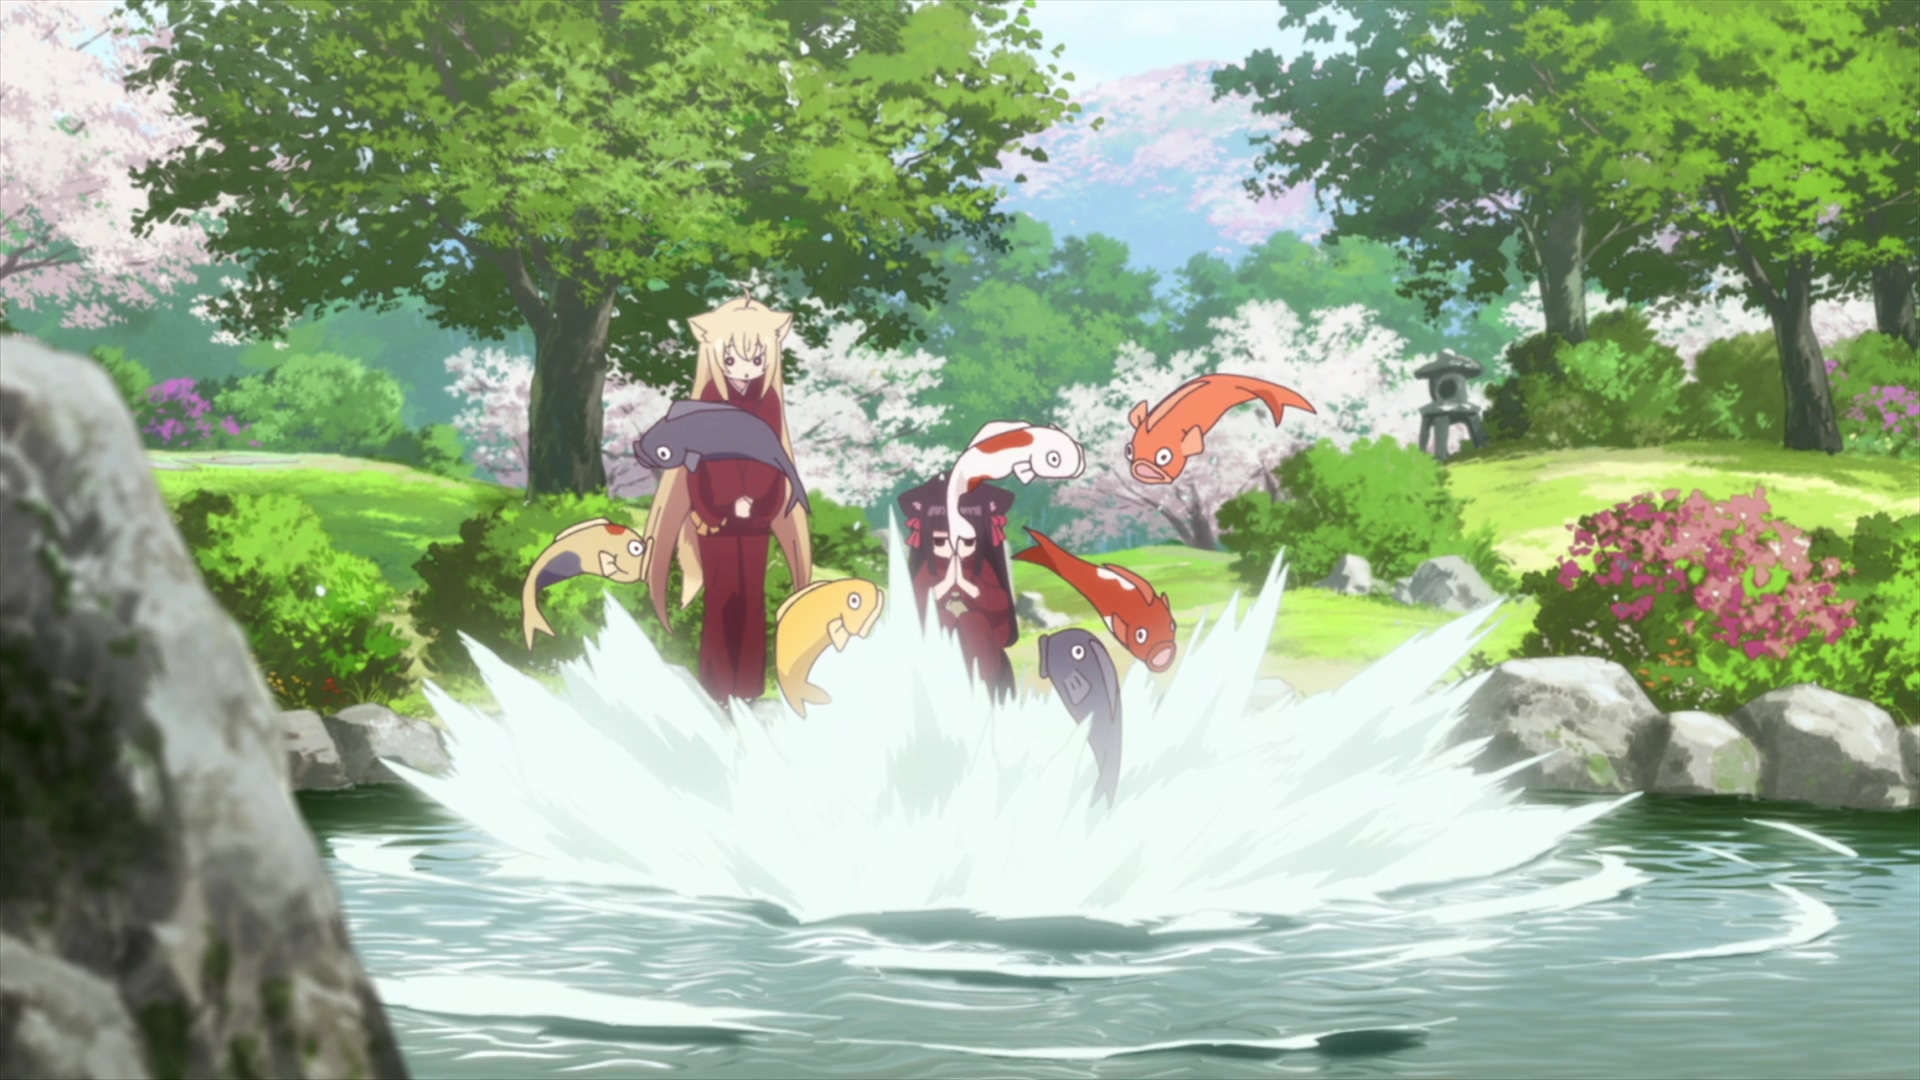柚: (644, 285, 814, 727)
樱: (899, 472, 1023, 708)
